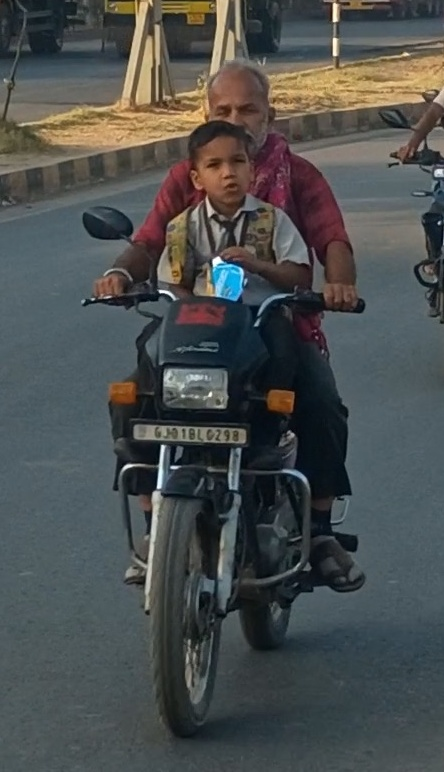BikeWithRider: (69, 49, 376, 751)
NoHelmet: (193, 55, 286, 155), (178, 118, 264, 209)
